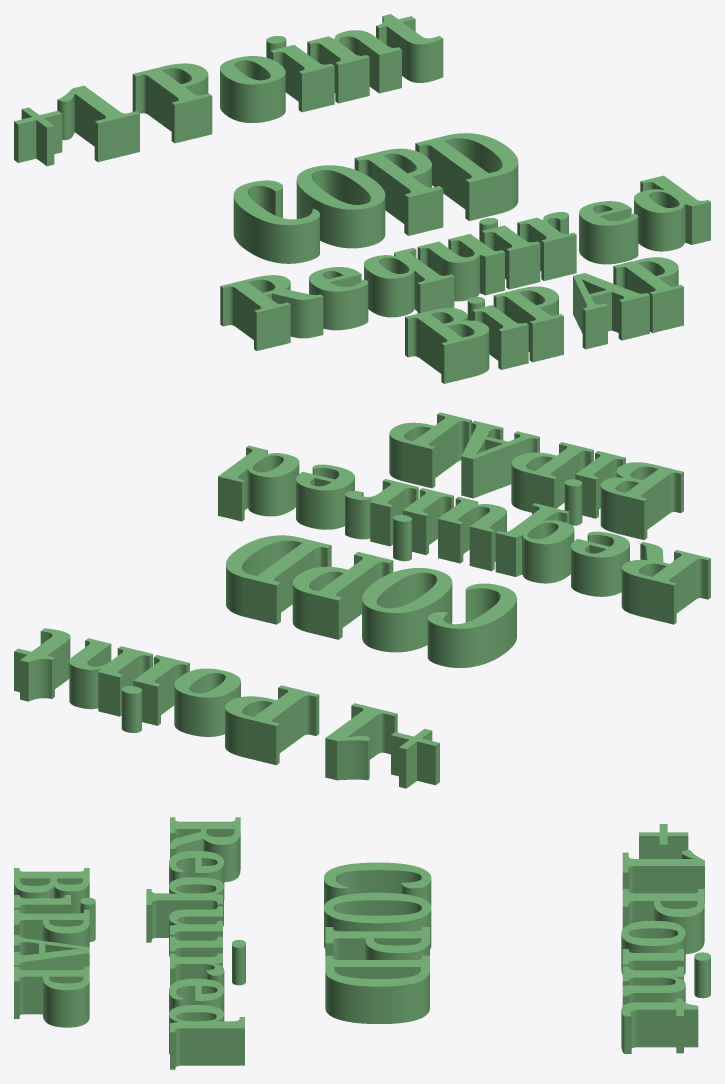
File: poscopd.gltf
3 views of the same model, one above another, from view 1: azimuth 30°, elevation 25°; view 2: azimuth 150°, elevation 25°; view 3: azimuth 270°, elevation 25° (orthographic). The views are drawn at different scales.
Parts seen in each view (by area): view 1: Mesh_Mesh_head_geo001_lambert2SG001; view 2: Mesh_Mesh_head_geo001_lambert2SG001; view 3: Mesh_Mesh_head_geo001_lambert2SG001.
Boxes of the visible parts, x1,y1,x2,y2 form: Mesh_Mesh_head_geo001_lambert2SG001: (14,14,710,383); Mesh_Mesh_head_geo001_lambert2SG001: (14,412,710,788); Mesh_Mesh_head_geo001_lambert2SG001: (14,817,710,1069).
Bounding box in the file's own units: 123 × 10 × 169.
